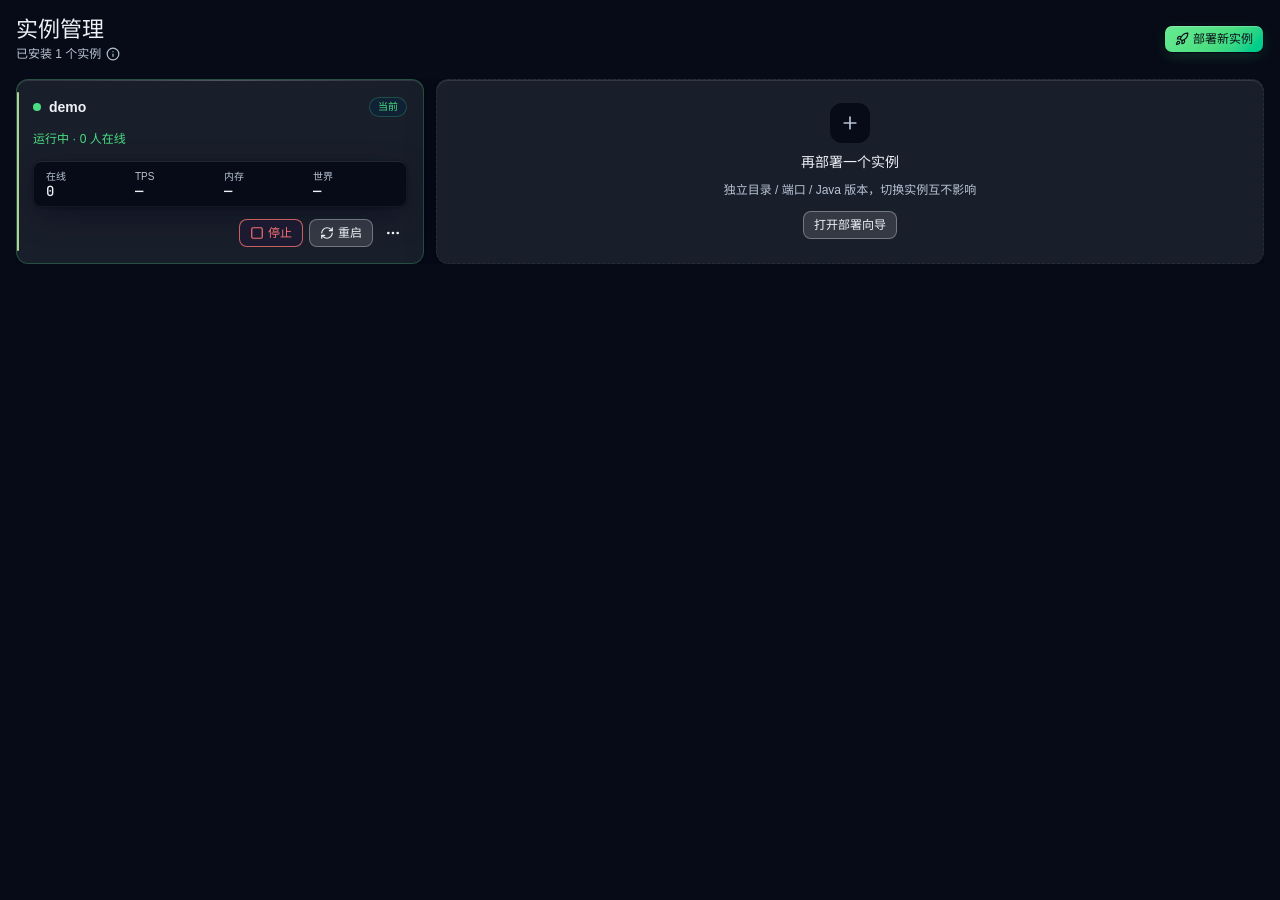
Test: InstancesPage · 卸载确认 › 库中实例名为空串（升级前旧值） › 空输入即匹配但要声明不可恢复：首次 40916 → 二次确认带 acknowledgeIrreversible 才卸载
// 操作按钮的可访问名同样回退到 id：空名行若不给回退就只剩「无名按钮」
Click the button named "demo 操作菜单": (393, 233) [379,219,407,247]
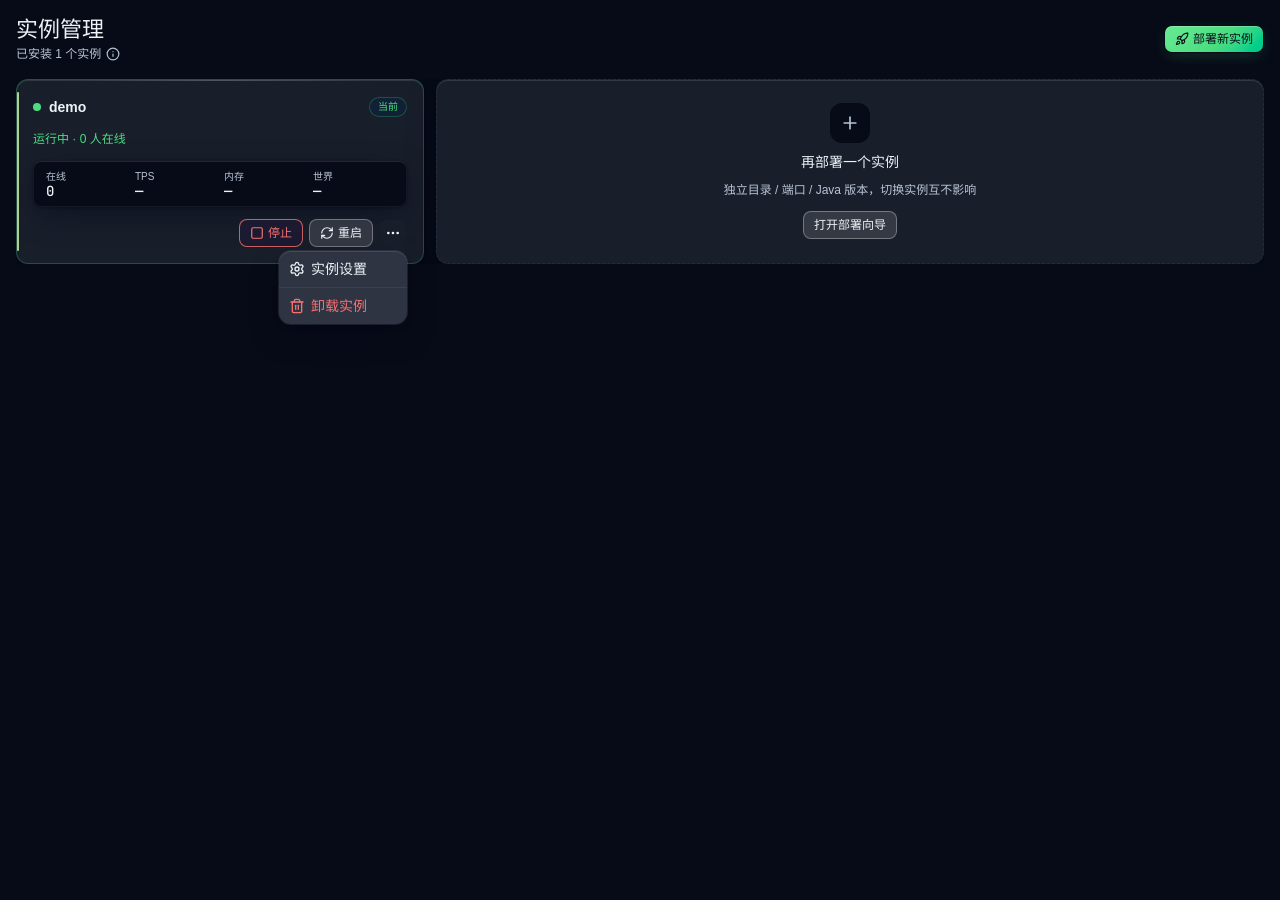
Click the menu item "卸载实例": (328, 306) [289,298,367,314]
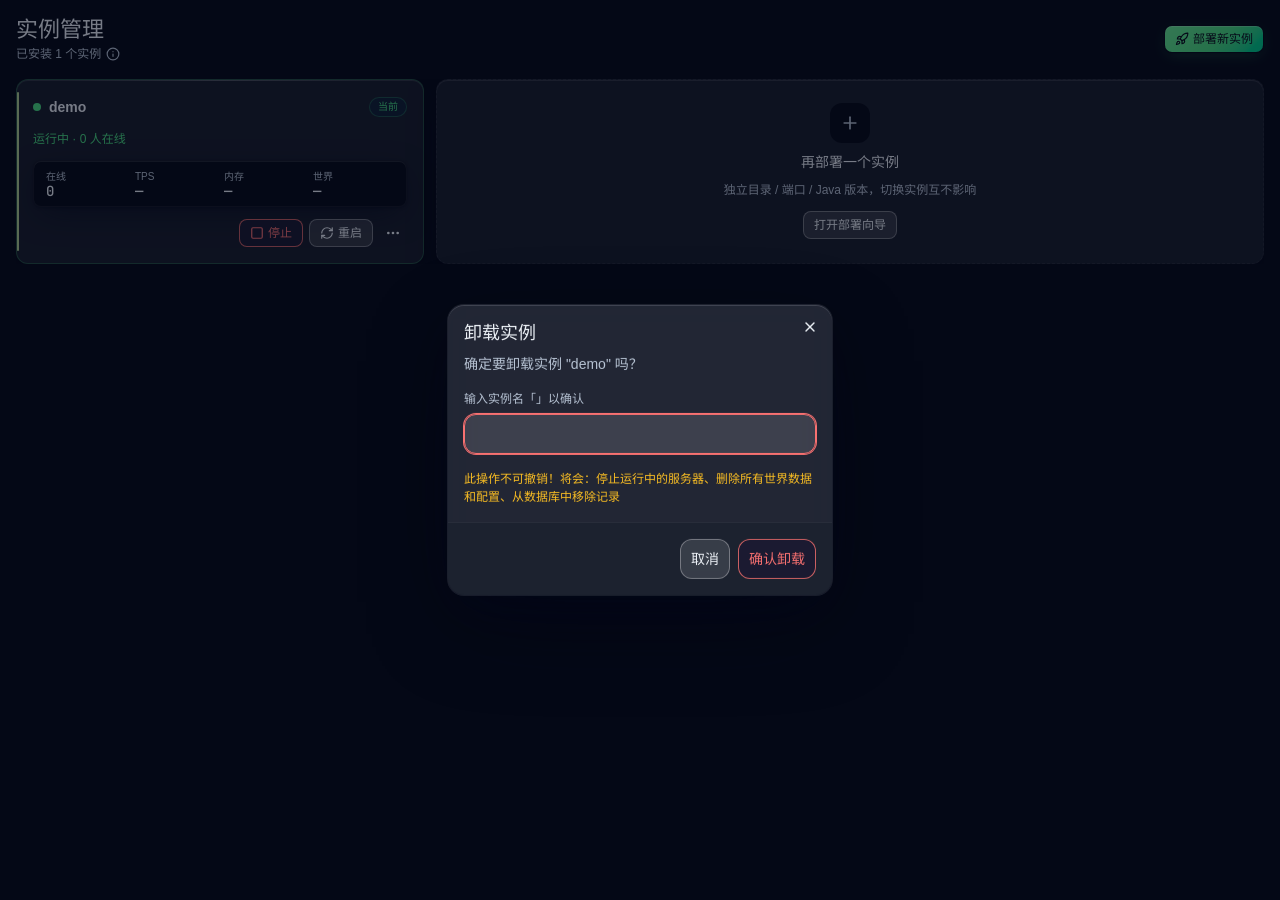
expect the button "确认卸载" is enabled: met
Click the button "确认卸载": (777, 559) [738,539,816,579]
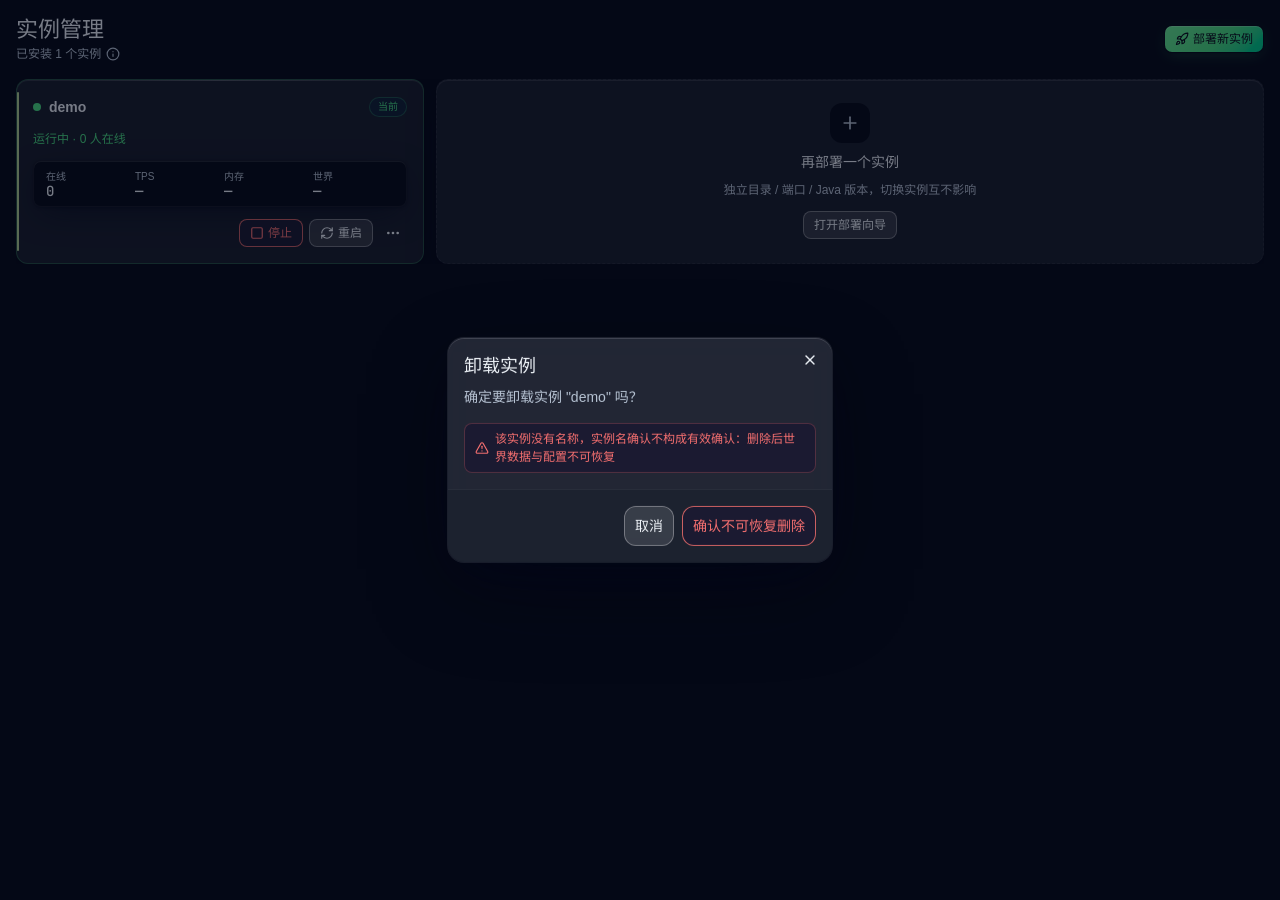
expect the text "该实例没有名称，实例名确认不构成有效确认：删除后世界数据与配置不可恢复" is shown: met, box [495,430,805,466]
Click the button "确认不可恢复删除": (749, 526) [682,506,816,546]
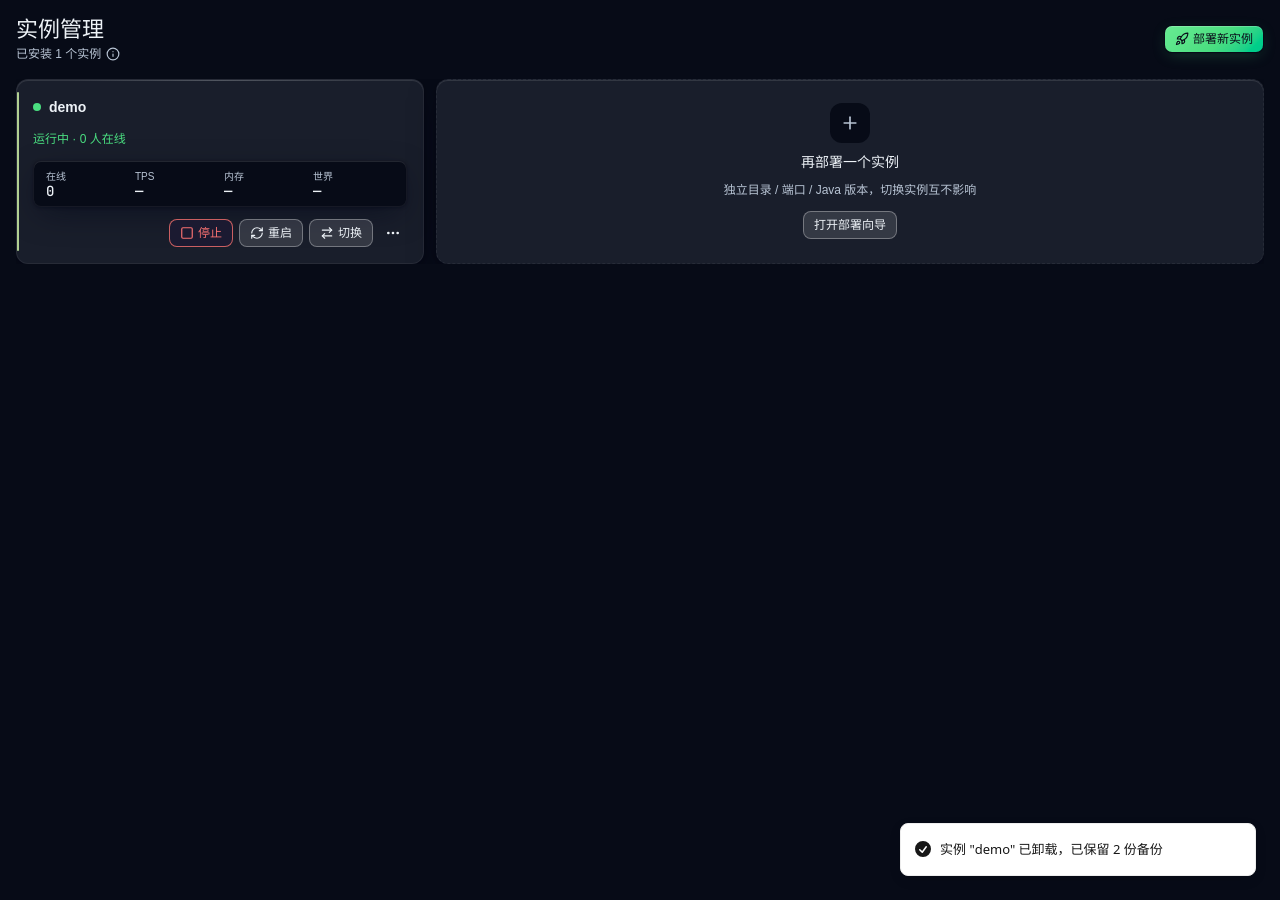
expect the text "实例 \"demo\" 已卸载，已保留 2 份备份" is shown: met, box [940,840,1163,859]
